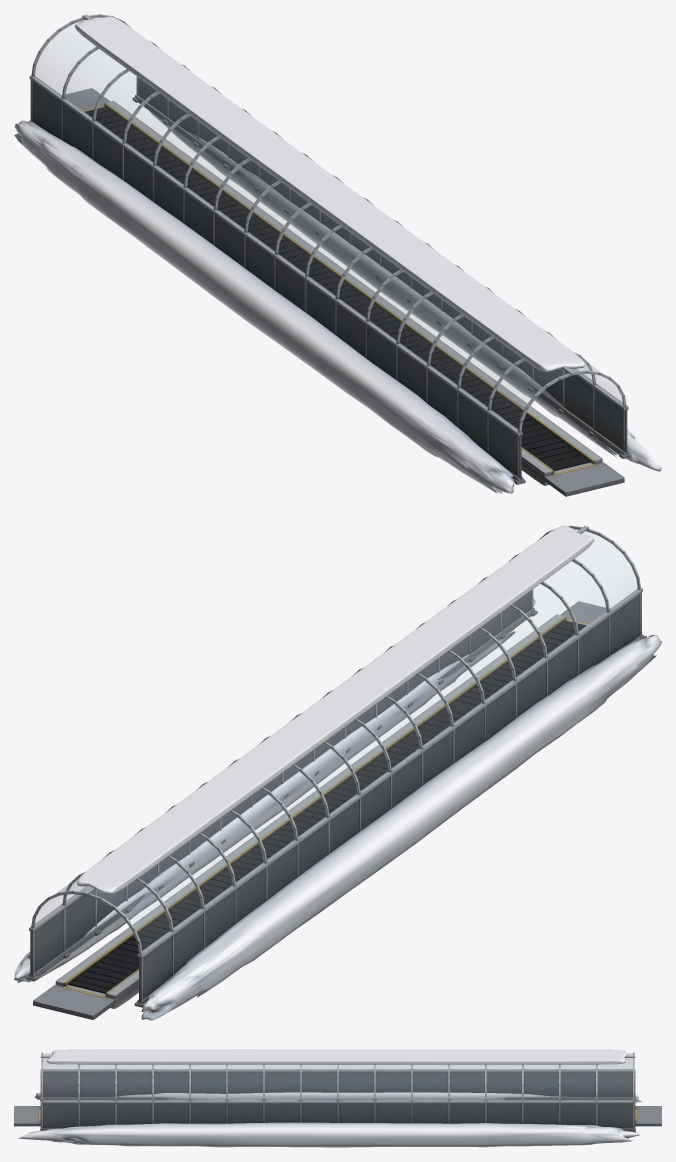
File: magic_carpet.glb
3 renders of one model, top to bottom at view 1: azimuth 30°, elevation 25°; view 2: azimuth 150°, elevation 25°; view 3: azimuth 270°, elevation 25°, orthographic. The views are drawn at different scales.
Parts seen in each view (by area): view 1: magic_carpet, magic_carpet_snow, magic_carpet_glass; view 2: magic_carpet, magic_carpet_snow, magic_carpet_glass; view 3: magic_carpet, magic_carpet_snow, magic_carpet_glass.
Part boxes in pixels (bbox=[...]): magic_carpet: bbox=[29, 14, 631, 496]; magic_carpet_snow: bbox=[14, 16, 661, 493]; magic_carpet_glass: bbox=[34, 17, 622, 430]; magic_carpet: bbox=[26, 525, 643, 1019]; magic_carpet_snow: bbox=[14, 525, 661, 1020]; magic_carpet_glass: bbox=[35, 528, 638, 951]; magic_carpet: bbox=[14, 1052, 661, 1132]; magic_carpet_snow: bbox=[18, 1049, 641, 1147]; magic_carpet_glass: bbox=[43, 1053, 632, 1100].
Size of the model in its own units: 3.9 by 2.64 by 21.8.
3 materials, 1 textured.
